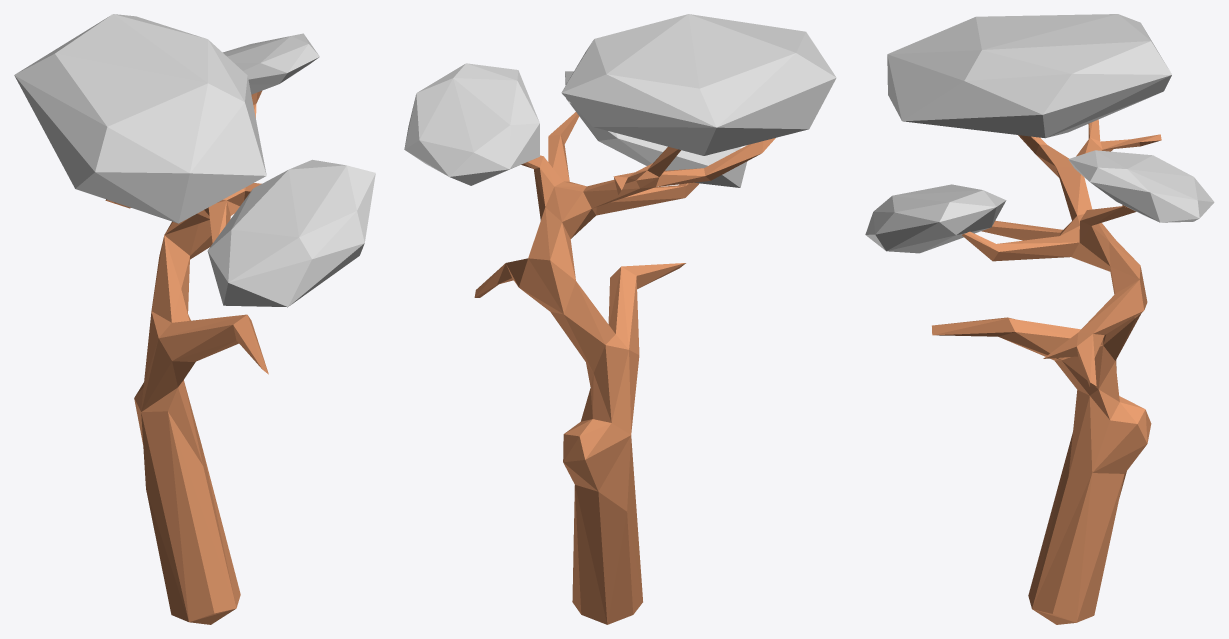
Rendered from Tree7.fbx.
The picture shows the model from 3 angles, left to right: view 1: azimuth 30°, elevation 25°; view 2: azimuth 150°, elevation 25°; view 3: azimuth 270°, elevation 25°; orthographic projection. The views are drawn at different scales.
Parts seen in each view (by area): view 1: tree.001; view 2: tree.001; view 3: tree.001.
Boxes of the visible parts, box(x1,y1,x2,y2) form: tree.001: box(14, 14, 375, 624); tree.001: box(404, 14, 836, 624); tree.001: box(865, 14, 1214, 624).
Bounding box in the file's own units: 357 × 632 × 357.
